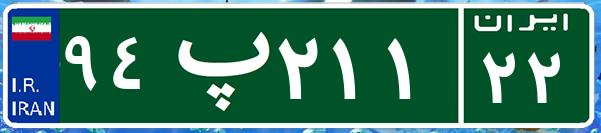1: (385, 28, 445, 110), (330, 28, 385, 110)
2: (273, 28, 330, 110), (475, 38, 525, 113), (525, 38, 570, 115)
4: (110, 28, 158, 105)
9: (57, 26, 110, 107)
پ: (158, 15, 273, 115)
